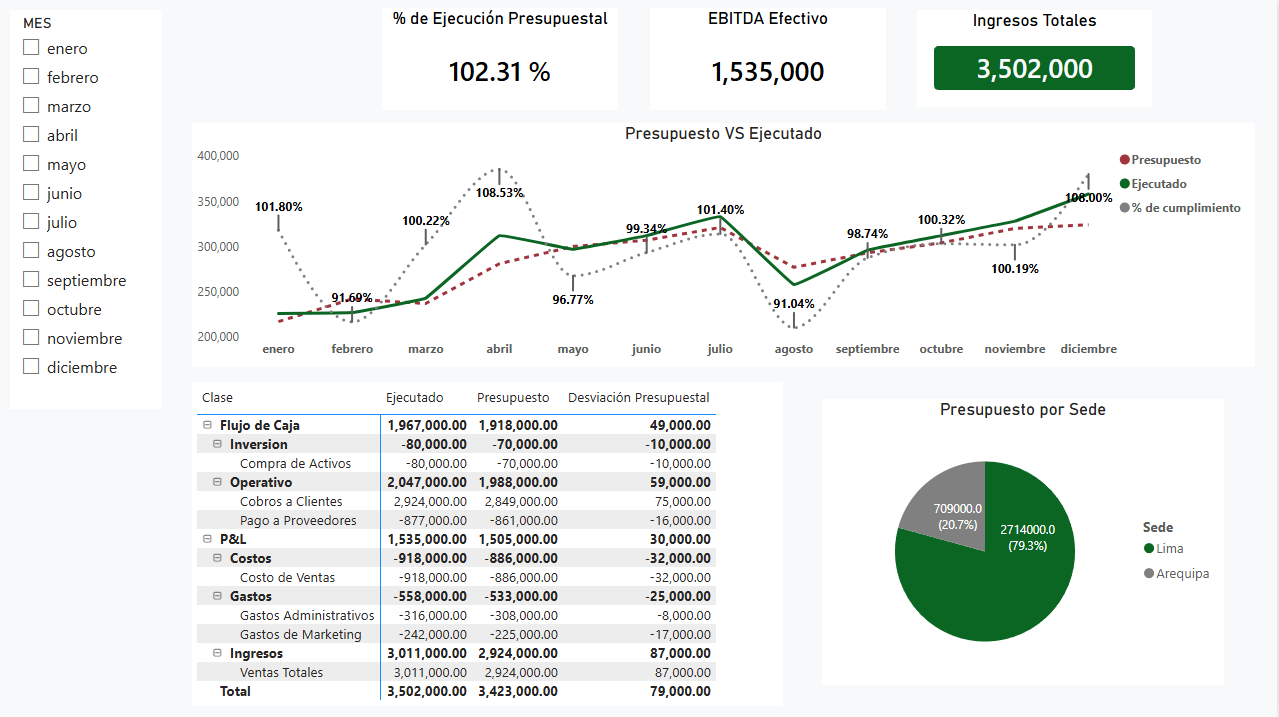

The page's visual inventory and layout, read from the dashboard file:
{"tool":"powerbi","page":{"name":"Página 1","canvas":[1280,720],"ordinal":0},"visuals":[{"type":"cardVisual","title":"Ingresos Totales","fields":{"Data":["MEDIDAS.Monto_real"]},"box":[920,12,235,97],"z":0},{"type":"slicer","fields":{"Values":["CALENDARIO.MES"]},"box":[13,12,152,399],"z":1000},{"type":"lineChart","title":"Presupuesto VS Ejecutado","fields":{"Y":["MEDIDAS.Monto_presupuesto","MEDIDAS.Monto_real"],"Category":["CALENDARIO.MES"],"Y2":["MEDIDAS.& de cumplimiento"]},"box":[195,125,1063,244],"z":2000},{"type":"cardVisual","title":"EBITDA Efectivo","fields":{"Data":["MEDIDAS.EBITDA"]},"box":[653,10,236,102],"z":3000},{"type":"cardVisual","title":"% de Ejecución Presupuestal","fields":{"Data":["MEDIDAS.% de cumplimiento"]},"box":[385,10,236,102],"z":4000},{"type":"pivotTable","fields":{"Rows":["VW_DIM_Cuenta.Clase","VW_DIM_Cuenta.Categoria","VW_DIM_Cuenta.Subcategoria"],"Values":["MEDIDAS.Monto_real","MEDIDAS.Monto_presupuesto","MEDIDAS.Desviacion Prsupuestal"]},"box":[195,384,591,324],"z":5000},{"type":"pieChart","title":"Presupuesto por Sede","fields":{"Category":["VW_DIM_CentroCosto.Sede"],"Y":["MEDIDAS.Monto_presupuesto"]},"box":[825,401,402,286],"z":6000}]}

Visuals, with their boxes in screenshot pixels (x1, y1, x2, y2), scaled from the page's 1280x720 canvas onto the 1279x717 screenshot:
"Ingresos Totales" cardVisual: crop(919, 12, 1154, 109)
slicer - CALENDARIO.MES: crop(13, 12, 165, 409)
"Presupuesto VS Ejecutado" lineChart: crop(195, 124, 1257, 367)
"EBITDA Efectivo" cardVisual: crop(652, 10, 888, 112)
"% de Ejecución Presupuestal" cardVisual: crop(385, 10, 621, 112)
pivotTable - VW_DIM_Cuenta.Clase x VW_DIM_Cuenta.Categoria: crop(195, 382, 785, 705)
"Presupuesto por Sede" pieChart: crop(824, 399, 1226, 684)
